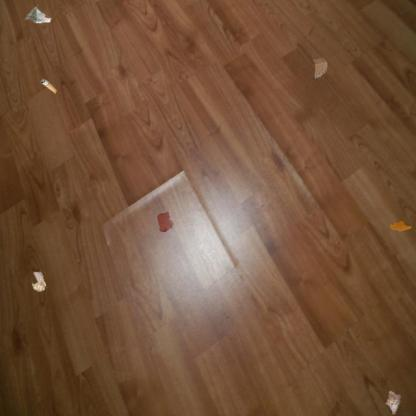dirty: (24, 3, 53, 25), (384, 389, 402, 415), (311, 56, 329, 80), (38, 76, 59, 94), (31, 270, 46, 292)
liquid: (156, 210, 175, 233), (390, 219, 412, 232)
